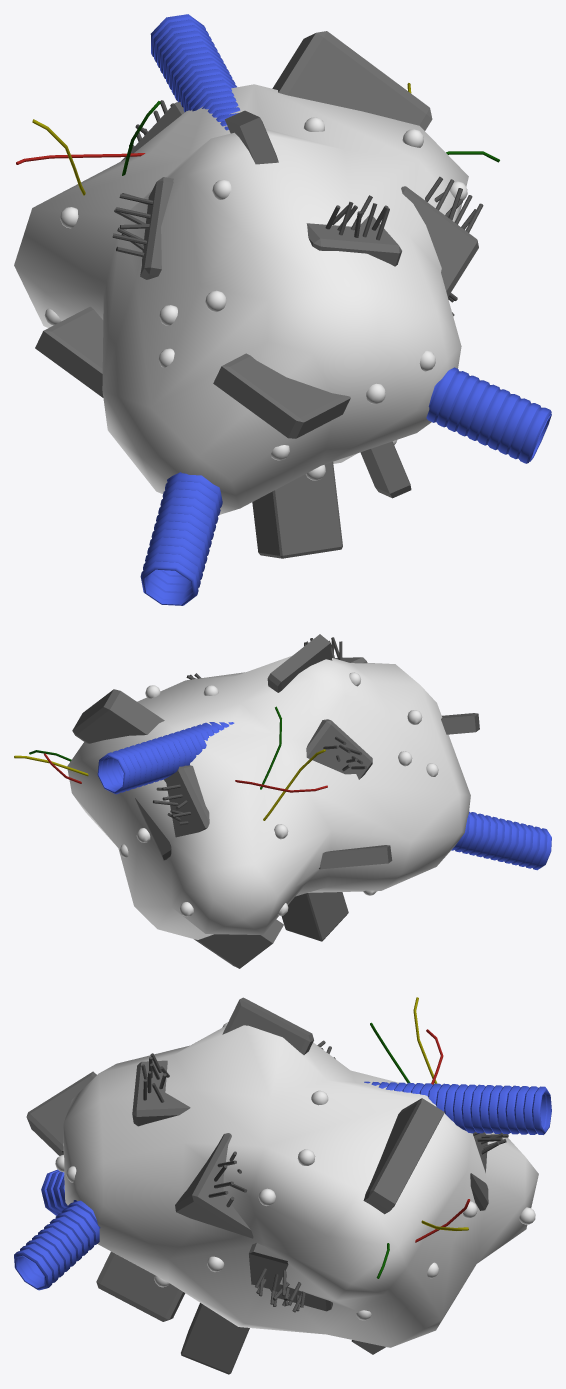
File: escombros_OG.fbx
The picture shows the model from 3 angles, top to bottom: view 1: azimuth 30°, elevation 25°; view 2: azimuth 150°, elevation 25°; view 3: azimuth 270°, elevation 25°; orthographic projection. The views are drawn at different scales.
Visible parts, largest first — view 1: Mball.013, Tubo.002, Cube.004, Tubo.003, Cube.010, Tubo.001, Cube.002, Cube.011, Cube.001, Cube, Cube.007, Cube.003 (+1 smaller); view 2: Mball.013, Tubo.001, Tubo.002, Cube.004, Cube.008, Cube.010, Cube.007, Cube.009, Cube.005, Cube.011, Cube.002; view 3: Mball.013, Tubo.001, Tubo.003, Cube.004, Cube.003, Cube.001, Cube.010, Cube.002, Cube.005, Cube, Cube.006, Tubo.002 (+1 smaller).
Part boxes in pixels (x1,y1,x2,y2): Mball.013: (14,84,468,514); Tubo.002: (140,472,222,605); Cube.004: (272,31,432,130); Tubo.003: (426,367,551,463); Cube.010: (252,462,342,558); Tubo.001: (150,14,240,130); Cube.002: (213,353,350,438); Cube.011: (35,306,103,397); Cube.001: (401,186,478,296); Cube: (306,216,401,266); Cube.007: (140,177,173,279); Cube.003: (360,441,411,498); Mball.013: (67,655,470,939); Tubo.001: (97,722,234,794); Tubo.002: (451,811,551,870); Cube.004: (72,689,164,743); Cube.008: (135,765,209,860); Cube.010: (281,892,348,941); Cube.007: (306,719,372,779); Cube.009: (194,919,283,968); Cube.005: (267,634,332,692); Cube.011: (319,845,392,869); Cube.002: (441,713,479,734); Mball.013: (63,1025,538,1347); Tubo.001: (364,1081,551,1134); Tubo.003: (14,1200,100,1290); Cube.004: (363,1098,444,1214); Cube.003: (96,1251,185,1321); Cube.001: (175,1133,253,1238); Cube.010: (181,1303,249,1374); Cube.002: (26,1071,96,1155); Cube.005: (222,997,313,1054); Cube: (132,1060,190,1126); Cube.006: (249,1243,332,1311); Tubo.002: (41,1169,67,1215).
Size of the model in its own units: 752 by 573 by 788.
